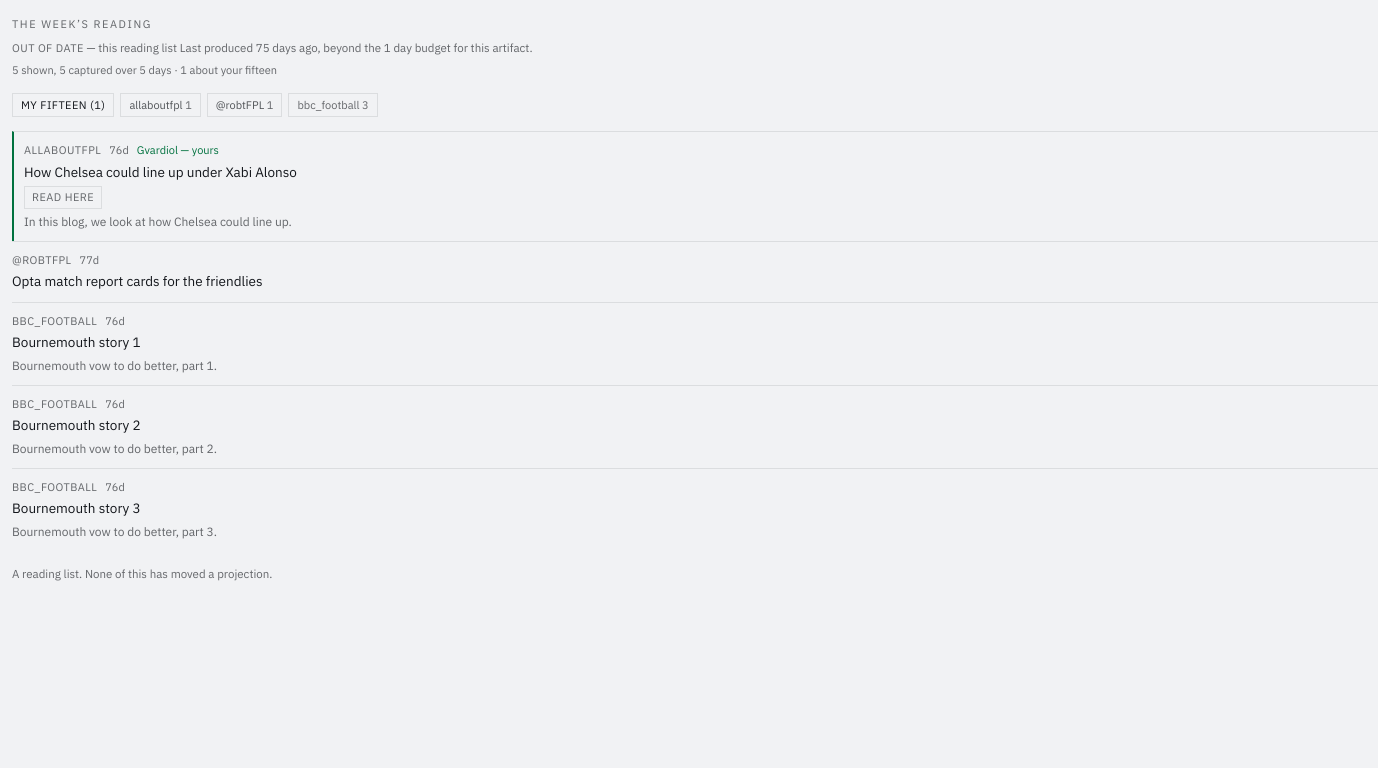
sources are reachable rather than merely present › filters to one source when it is chosen
What coordinates should you click on to do the following:
click the button with test id "news-filter-source" showing "allaboutfpl 1"
I would click on:
 (161, 105)
Its box is 120,92 -> 201,117.
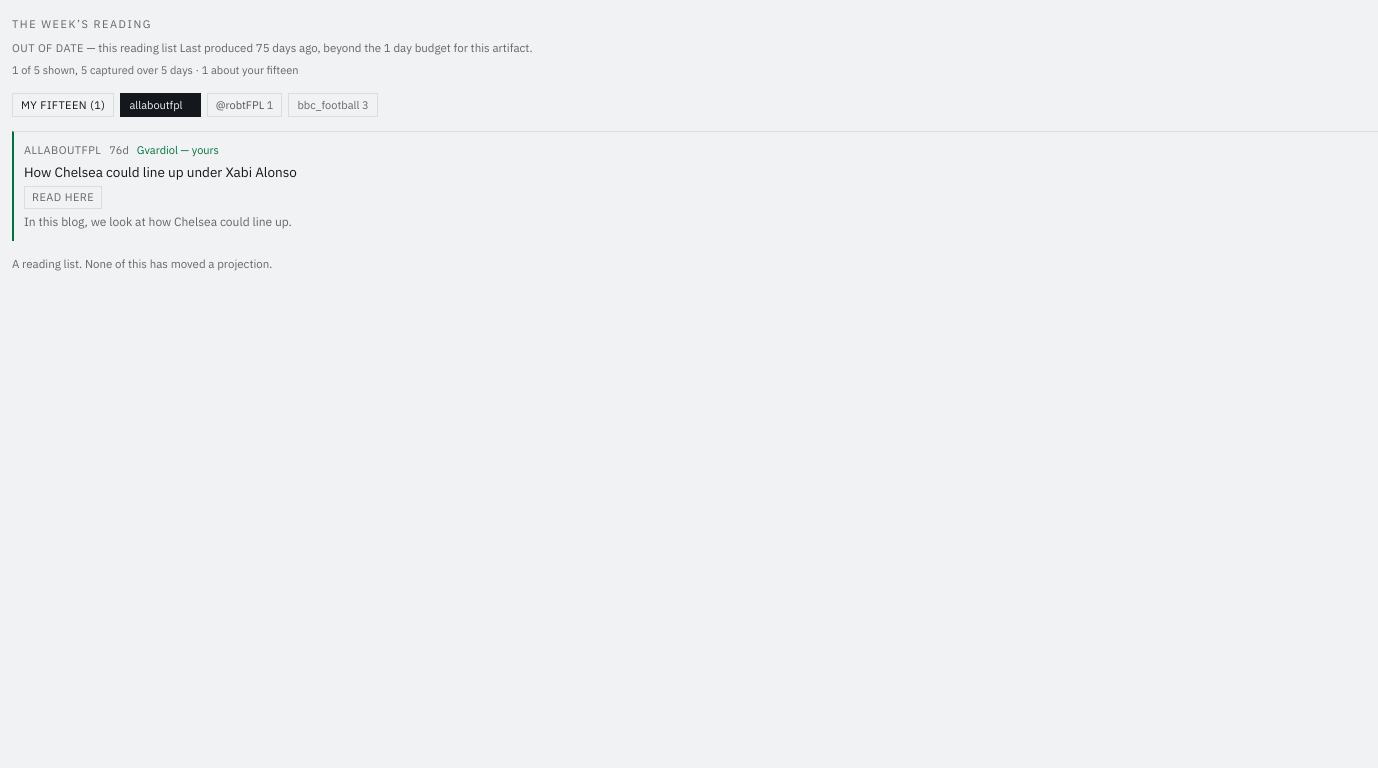
Now the number of list items with test id "news-item" is 1, box 12,131 -> 1377,241
